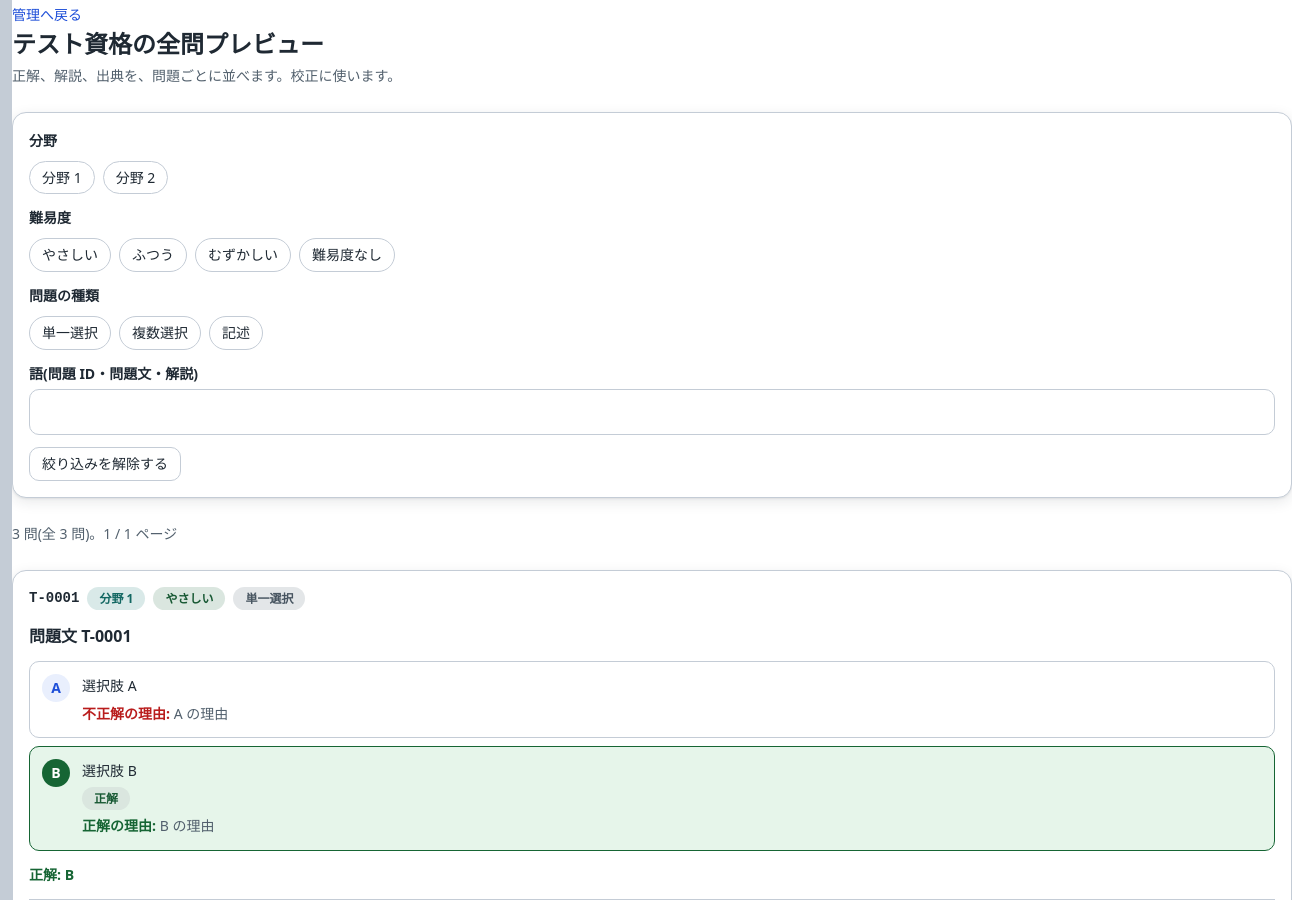
Test: QuestionPreview › 分野で絞り込む_押した状態で示し_件数が変わる_解除で戻る
Click the button "分野 2".
click(136, 178)  # box [103,161,168,194]
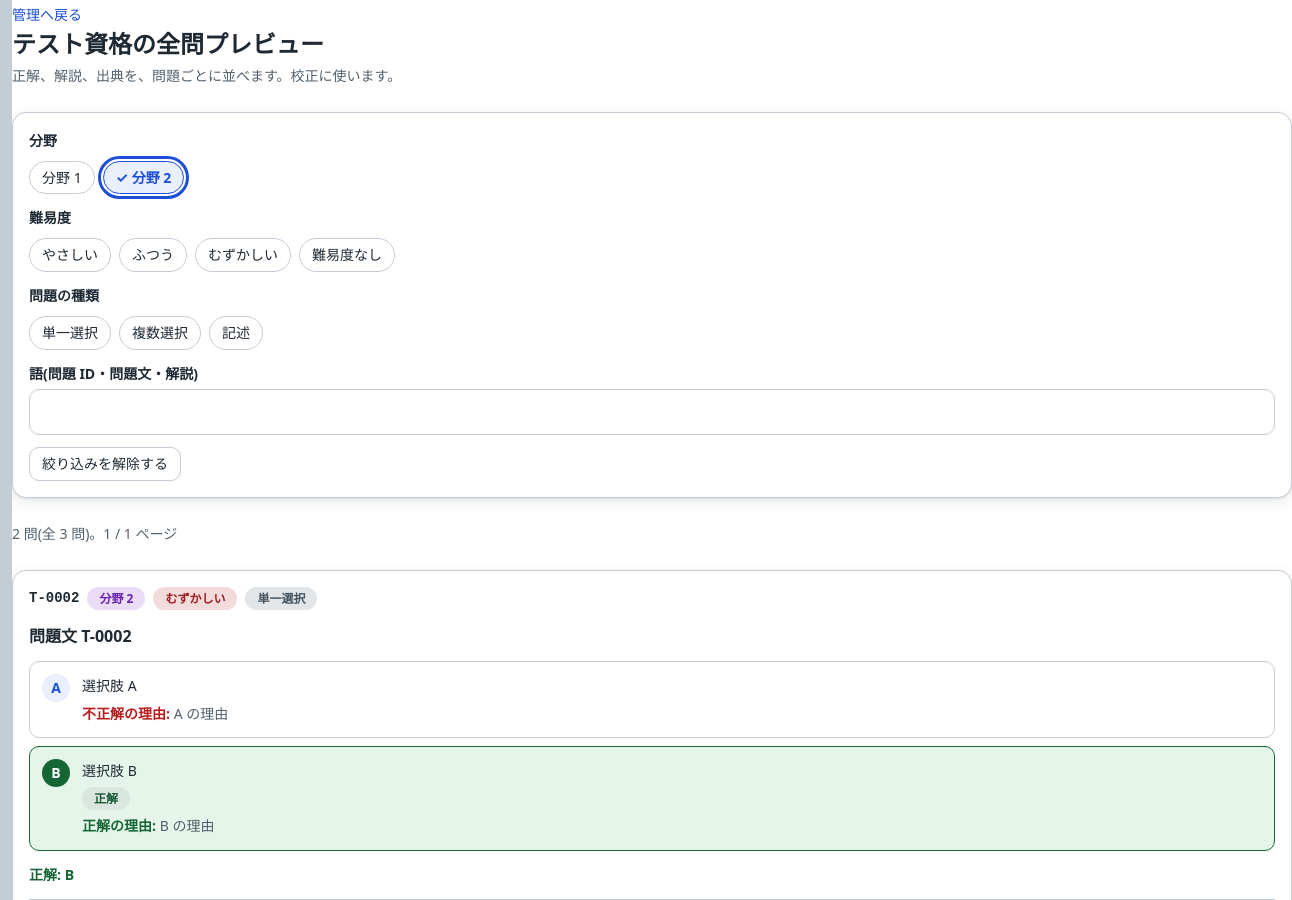
Check: the text "2 問(全 3 問)。1 / 1 ページ" is shown, box [12,524,177,543]
Check: the text "問題文 T-0001" is gone
Click the button "絞り込みを解除する".
click(105, 464)  # box [29,447,181,481]
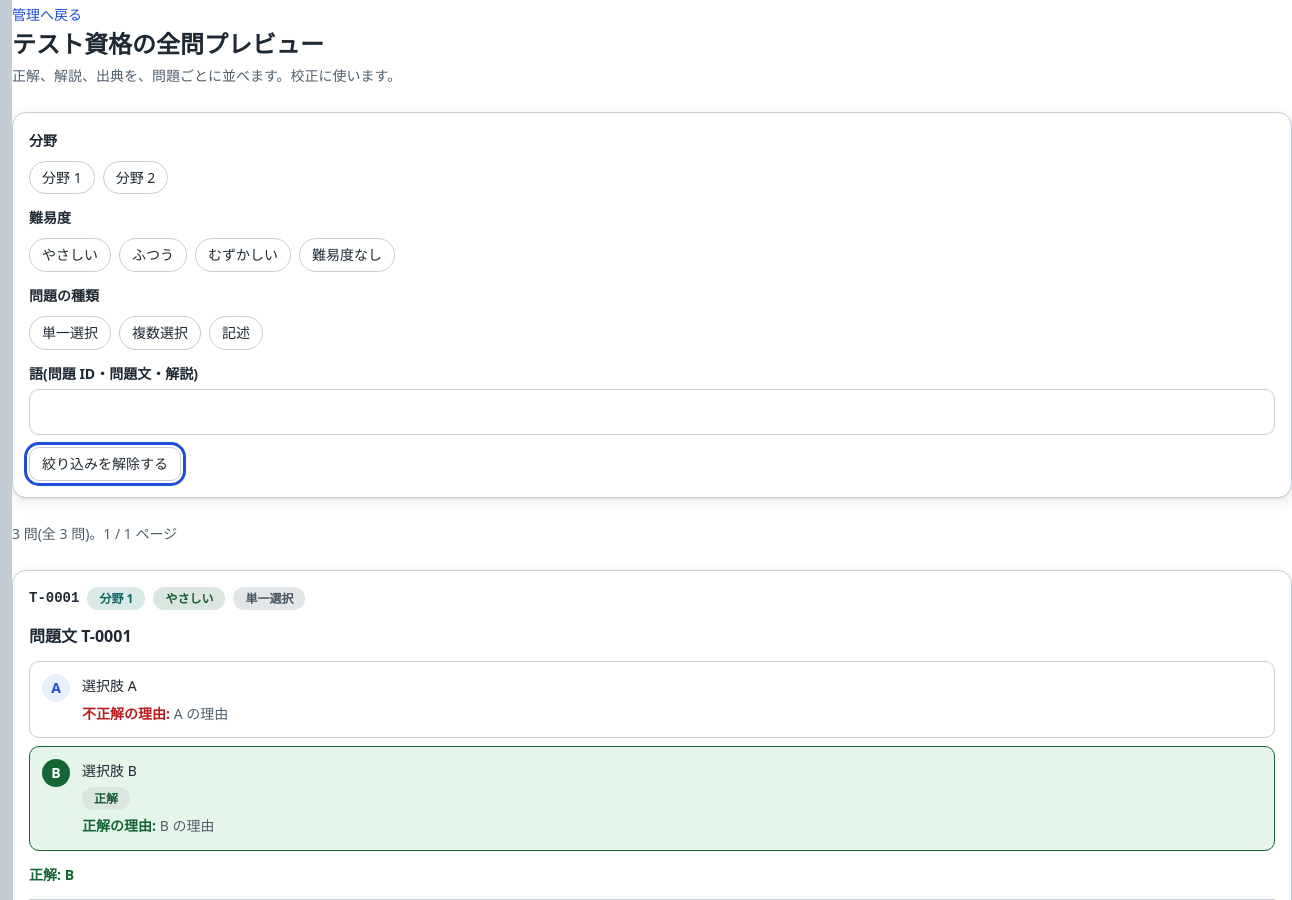
Check: the text "3 問(全 3 問)。1 / 1 ページ" is shown, box [12,524,177,543]
